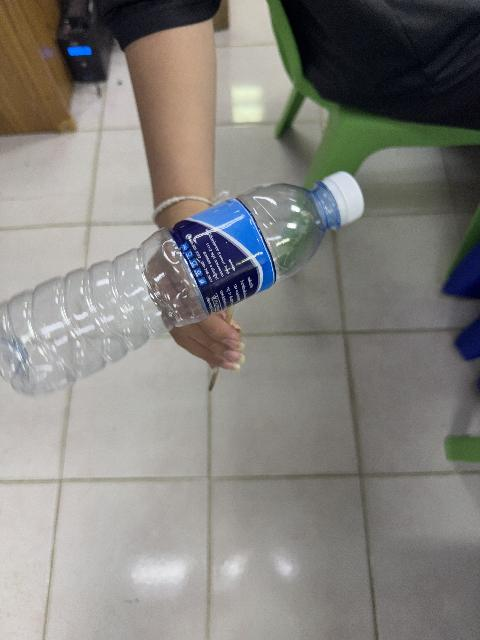bottle: (0, 172, 363, 395)
